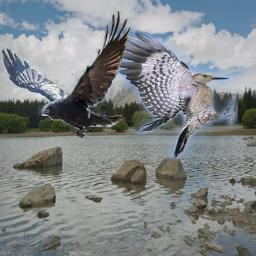Crow: (1, 10, 131, 138)
Woodpecker: (110, 33, 238, 159)
